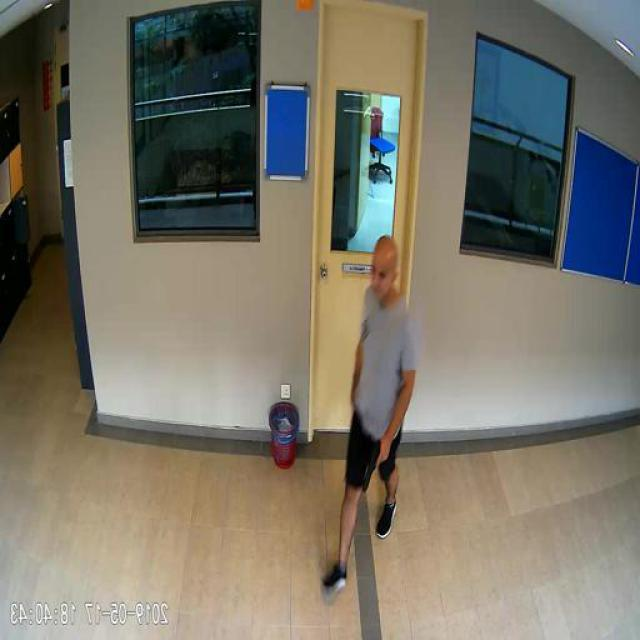Gun: (365, 438, 391, 488)
